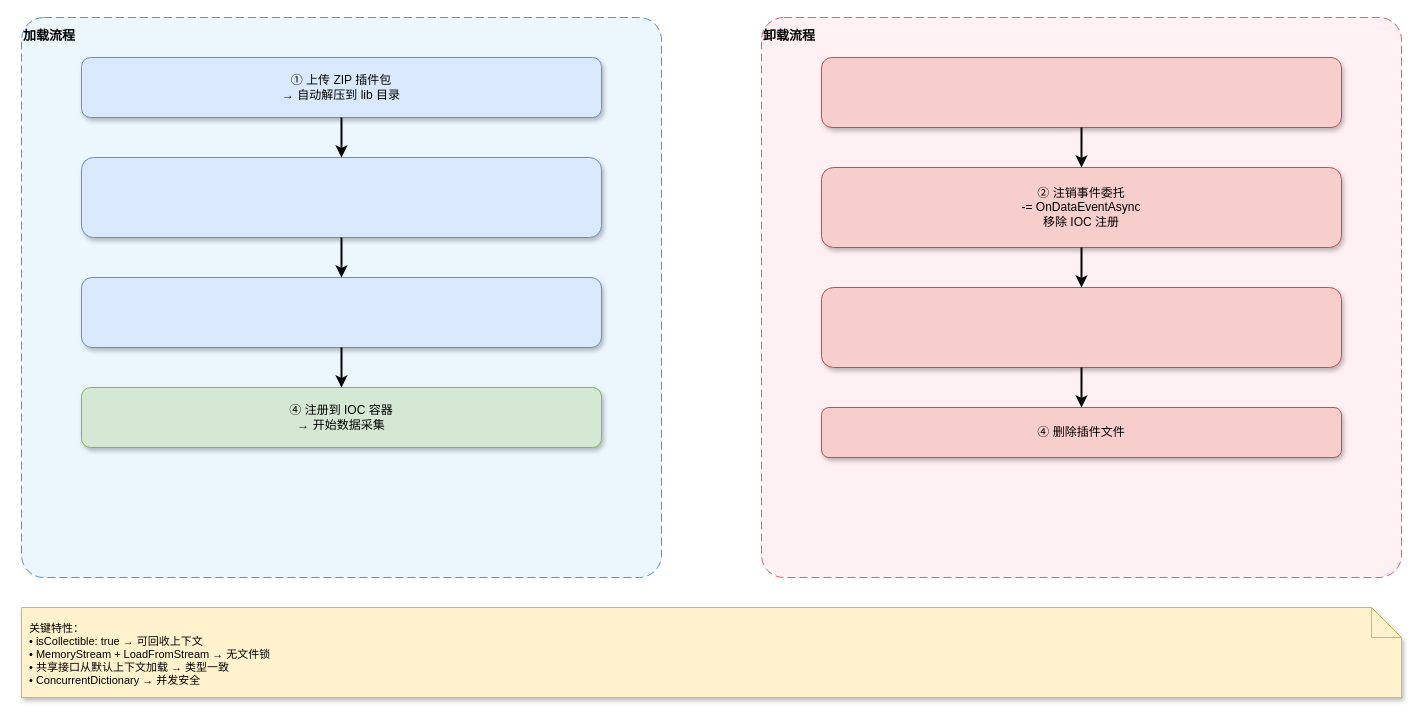
The diagram is 1425 pixels wide and 722 high, and some of its shapes have lost their labels. The shapes that lost their labels are listed below. From the top down, each one's centre as x and y in pixels, then its label:
point 1082,93: ① 停止所有采集 OffAsync() 释放插件实例 DisposeAsync()
point 342,198: ② 创建 AssemblyLoadContext (isCollectible: true) 流式加载 DLL (MemoryStream)
point 342,313: ③ 扫描 IDaq / IMq 接口实现 实例化插件 PluginOperate.CreateAsync()
point 1082,328: ③ 卸载 AssemblyLoadContext Unload() → GC.Collect()
